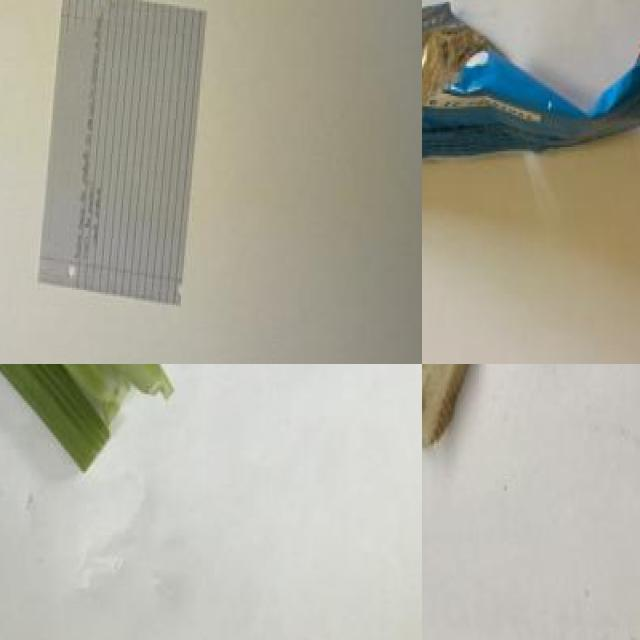compost: (0, 364, 232, 481), (422, 364, 488, 461)
paper: (29, 0, 227, 319)
trash: (422, 0, 640, 183)
